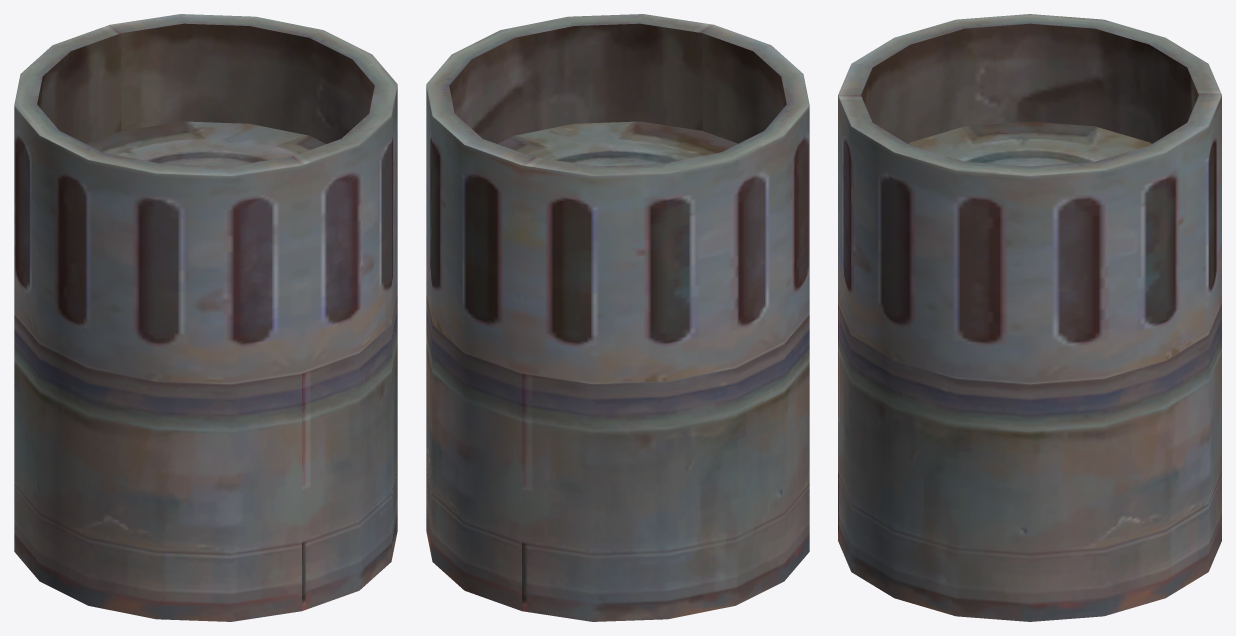
File: all_arch_und_house_container.glb
The picture shows the model from 3 angles, left to right: view 1: azimuth 30°, elevation 25°; view 2: azimuth 150°, elevation 25°; view 3: azimuth 270°, elevation 25°; orthographic projection.
Visible parts, largest first — view 1: all_arch_und_house_container; view 2: all_arch_und_house_container; view 3: all_arch_und_house_container.
Part boxes in pixels (x1,y1,x2,y2): all_arch_und_house_container: (14,14,397,621); all_arch_und_house_container: (426,14,809,621); all_arch_und_house_container: (838,14,1221,621).
Size of the model in its own units: 0.1799 by 0.2304 by 0.1799.
Materials: 1 (1 with a texture image).
